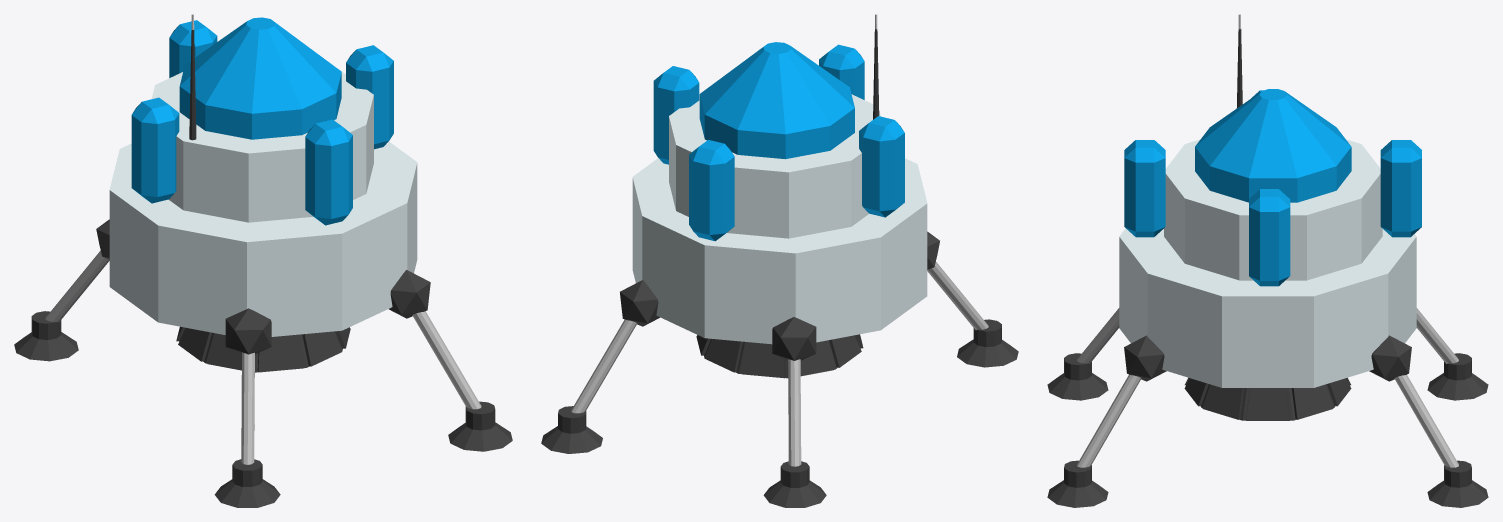
File: Lander_1.fbx
3 views of the same model, side by side, from view 1: azimuth 30°, elevation 25°; view 2: azimuth 150°, elevation 25°; view 3: azimuth 270°, elevation 25° (orthographic). The views are drawn at different scales.
Parts seen in each view (by area): view 1: Cylinder.001, Cylinder.005, Cylinder.007, Cylinder.008, Cube, Cylinder.006, Cube.003, Cylinder.009, Cube.001, Cube.002, Cylinder.002; view 2: Cylinder.001, Cylinder.005, Cylinder.009, Cylinder.003, Cube.002, Cylinder.006, Cube.003, Cylinder.007, Cube.001, Cube; view 3: Cylinder.001, Cylinder.005, Cylinder.006, Cylinder.003, Cylinder.008, Cube.001, Cube.002, Cube, Cylinder.007, Cylinder.009.
Boxes of the visible parts, box(x1,y1,x2,y2) form: Cylinder.001: box(109, 69, 417, 336); Cylinder.005: box(179, 17, 341, 139); Cylinder.007: box(214, 308, 280, 507); Cylinder.008: box(388, 270, 512, 451); Cube: box(305, 119, 352, 225); Cylinder.006: box(176, 326, 350, 372); Cube.003: box(131, 97, 179, 203); Cylinder.009: box(14, 219, 109, 361); Cube.001: box(346, 45, 393, 149); Cube.002: box(169, 20, 217, 77); Cylinder.002: box(189, 14, 196, 140); Cylinder.001: box(632, 91, 927, 344); Cylinder.005: box(699, 42, 854, 159); Cylinder.009: box(763, 317, 826, 507); Cylinder.003: box(541, 280, 659, 453); Cube.002: box(689, 140, 734, 241); Cylinder.006: box(696, 334, 863, 378); Cube.003: box(859, 116, 904, 217); Cylinder.007: box(927, 231, 1018, 367); Cube.001: box(653, 66, 699, 164); Cube: box(819, 44, 864, 99); Cylinder.001: box(1119, 139, 1416, 387); Cylinder.005: box(1195, 89, 1351, 202); Cylinder.006: box(1184, 377, 1351, 420); Cylinder.003: box(1369, 335, 1488, 507); Cylinder.008: box(1047, 335, 1166, 507); Cube.001: box(1249, 189, 1290, 286); Cube.002: box(1380, 140, 1421, 237); Cube: box(1124, 140, 1165, 237); Cylinder.007: box(1047, 308, 1119, 400); Cylinder.009: box(1416, 308, 1488, 400).
Bounding box in the file's own units: 13.37 × 18.07 × 18.66.
